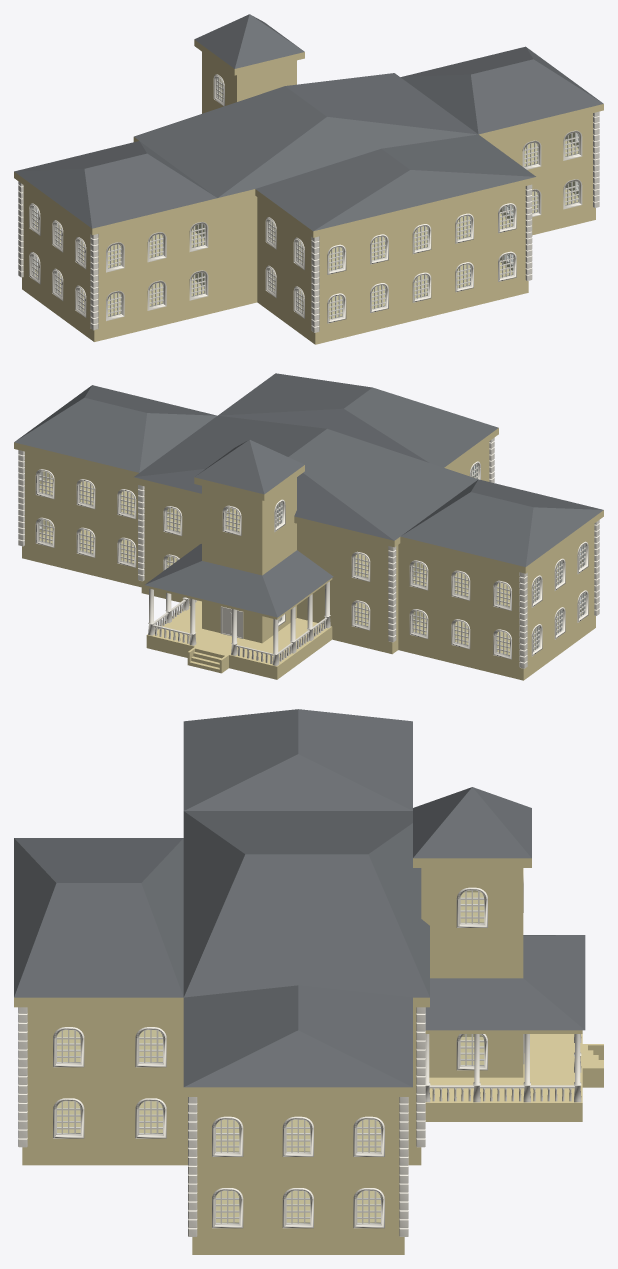
File: slottet.glb
The picture shows the model from 3 angles, top to bottom: view 1: azimuth 30°, elevation 25°; view 2: azimuth 150°, elevation 25°; view 3: azimuth 270°, elevation 25°; orthographic projection. The views are drawn at different scales.
Parts seen in each view (by area): view 1: Roof (×4), BackWall (×9), Base (×4), RightWall (×5), RoofTrim (×2), Pyramid, Floor (×2); view 2: Roof (×5), FrontWall (×9), RightWall (×5), Base (×3), Extrusion Spline, Deck, RoofTrim (×2), Pyramid, Floor (×2), Steps; view 3: Roof (×4), LeftWall (×7), Extrusion Spline, Base (×2), Deck, Pyramid, RoofTrim (×2), Floor (×2).
Part boxes in pixels (bbox=[...]): Roof (×4): bbox=[14, 46, 603, 231]; BackWall (×9): bbox=[98, 61, 592, 330]; Base (×4): bbox=[22, 187, 595, 344]; RightWall (×5): bbox=[23, 53, 311, 328]; RoofTrim (×2): bbox=[14, 39, 603, 237]; Pyramid: bbox=[194, 14, 304, 68]; Floor (×2): bbox=[35, 213, 512, 270]; Roof (×5): bbox=[14, 373, 603, 619]; FrontWall (×9): bbox=[25, 451, 519, 666]; RightWall (×5): bbox=[264, 441, 594, 664]; Base (×3): bbox=[22, 526, 595, 680]; Extrusion Spline: bbox=[145, 544, 333, 617]; Deck: bbox=[146, 600, 332, 679]; RoofTrim (×2): bbox=[14, 428, 603, 573]; Pyramid: bbox=[194, 439, 304, 494]; Floor (×2): bbox=[39, 477, 582, 606]; Steps: bbox=[189, 647, 226, 672]; Roof (×4): bbox=[14, 709, 429, 1087]; LeftWall (×7): bbox=[27, 868, 518, 1235]; Extrusion Spline: bbox=[425, 935, 585, 1030]; Base (×2): bbox=[22, 1101, 404, 1254]; Deck: bbox=[425, 1034, 582, 1121]; Pyramid: bbox=[413, 787, 531, 858]; RoofTrim (×2): bbox=[14, 858, 531, 1096]; Floor (×2): bbox=[57, 1030, 380, 1151].
Size of the model in its own units: 51 by 18.75 by 34.75.
